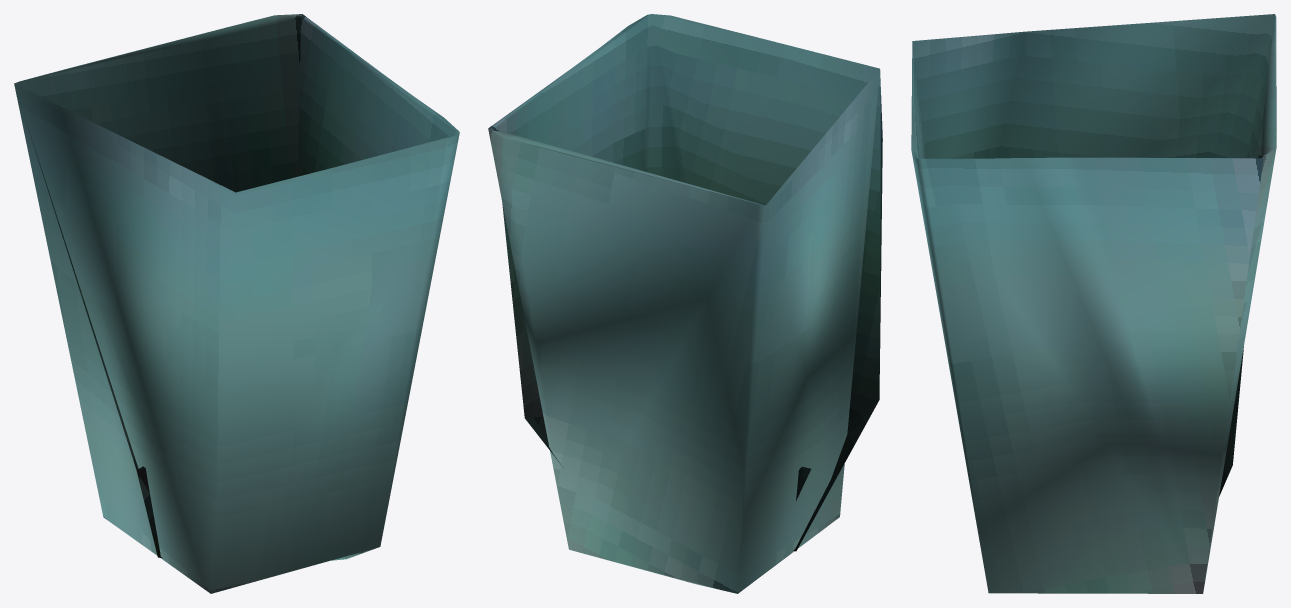
File: Ecoforms_Plant_Container_Quadra_Turquoise_QP12-low.glb
3 views of the same model, side by side, from view 1: azimuth 30°, elevation 25°; view 2: azimuth 150°, elevation 25°; view 3: azimuth 270°, elevation 25° (orthographic). The views are drawn at different scales.
Visible parts, largest first — view 1: Ecoforms_Plant_Container_Quadra_Turquoise_QP12; view 2: Ecoforms_Plant_Container_Quadra_Turquoise_QP12; view 3: Ecoforms_Plant_Container_Quadra_Turquoise_QP12.
Part boxes in pixels (x1,y1,x2,y2): Ecoforms_Plant_Container_Quadra_Turquoise_QP12: (14, 14, 459, 593); Ecoforms_Plant_Container_Quadra_Turquoise_QP12: (488, 14, 882, 593); Ecoforms_Plant_Container_Quadra_Turquoise_QP12: (911, 14, 1276, 593).
Size of the model in its own units: 0.1942 by 0.2811 by 0.1991.
Materials: 1 (1 with a texture image).
